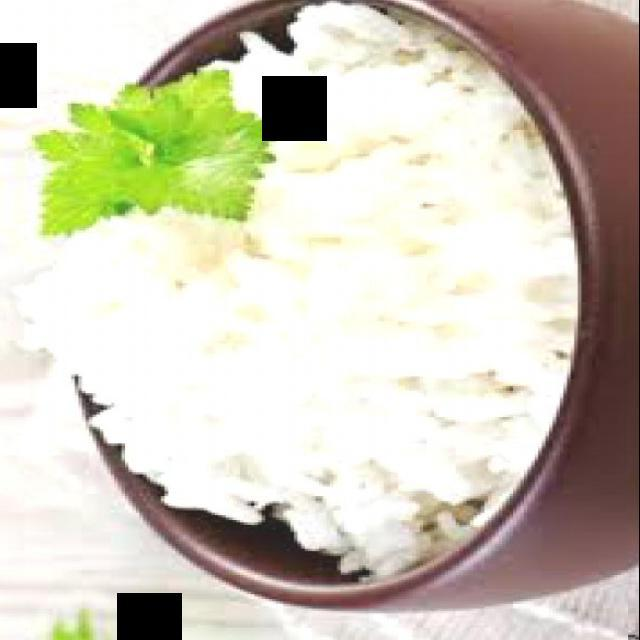rice: (13, 0, 579, 580)
